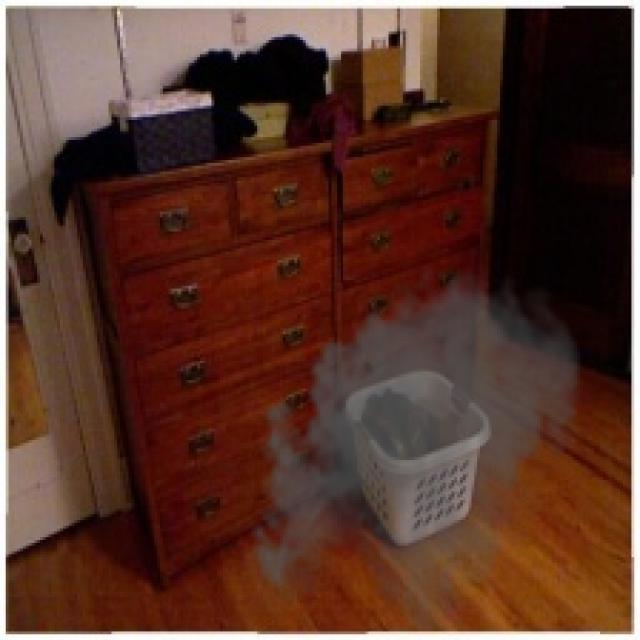Smoke: (240, 254, 589, 629)
